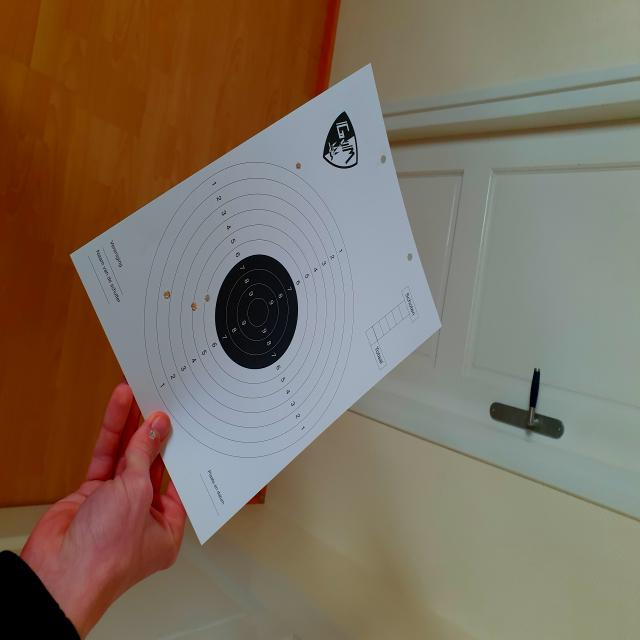0: (296, 162, 301, 172)
2: (163, 290, 171, 300)
5: (191, 302, 198, 311)
6: (204, 292, 211, 303)
Target: (142, 160, 357, 461)
black_contour: (215, 254, 299, 370)
